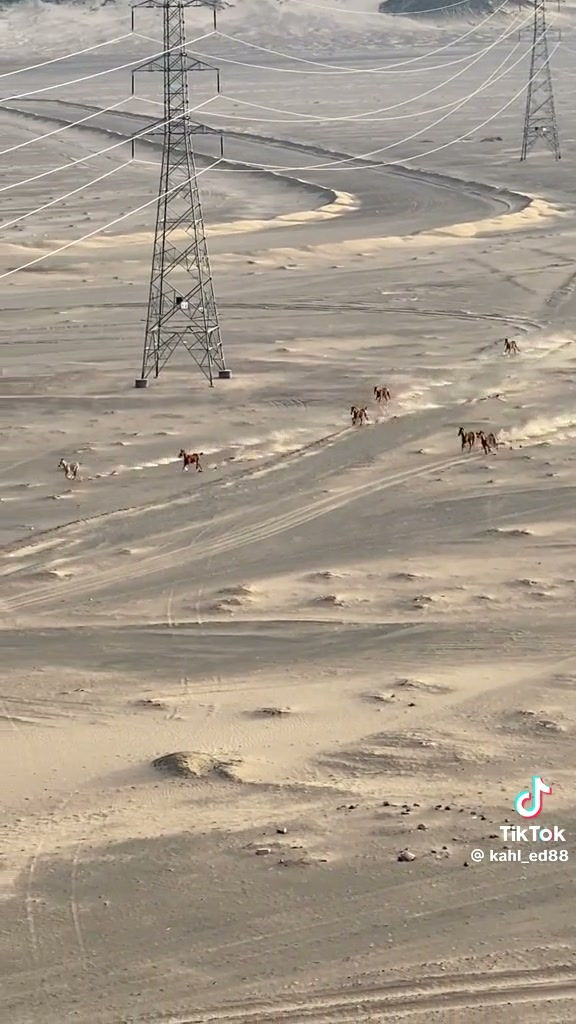animal: (179, 449, 203, 471), (476, 430, 498, 450), (58, 458, 79, 478), (458, 427, 475, 450), (350, 405, 368, 425), (373, 385, 390, 403), (479, 433, 490, 454), (504, 338, 518, 354)
vehicle_track: (59, 456, 468, 598), (170, 966, 575, 1023)
